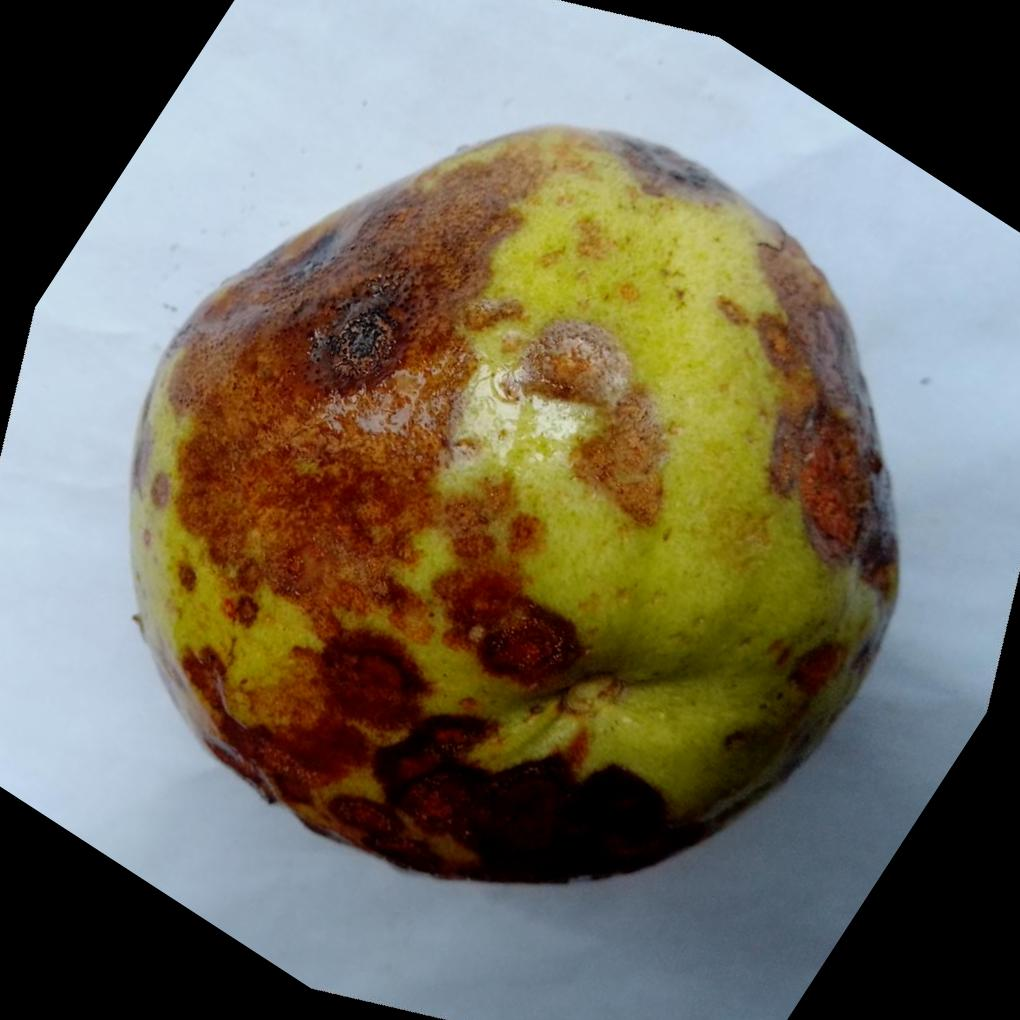FreshOrange: (125, 121, 900, 885)
